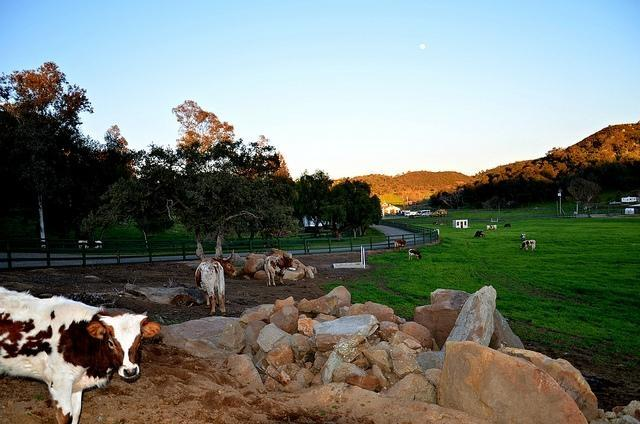car: (423, 213, 432, 217)
